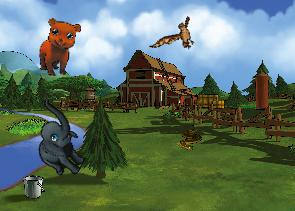bear: (39, 18, 81, 77)
eagle: (149, 7, 205, 66)
elephant: (14, 97, 103, 183)
